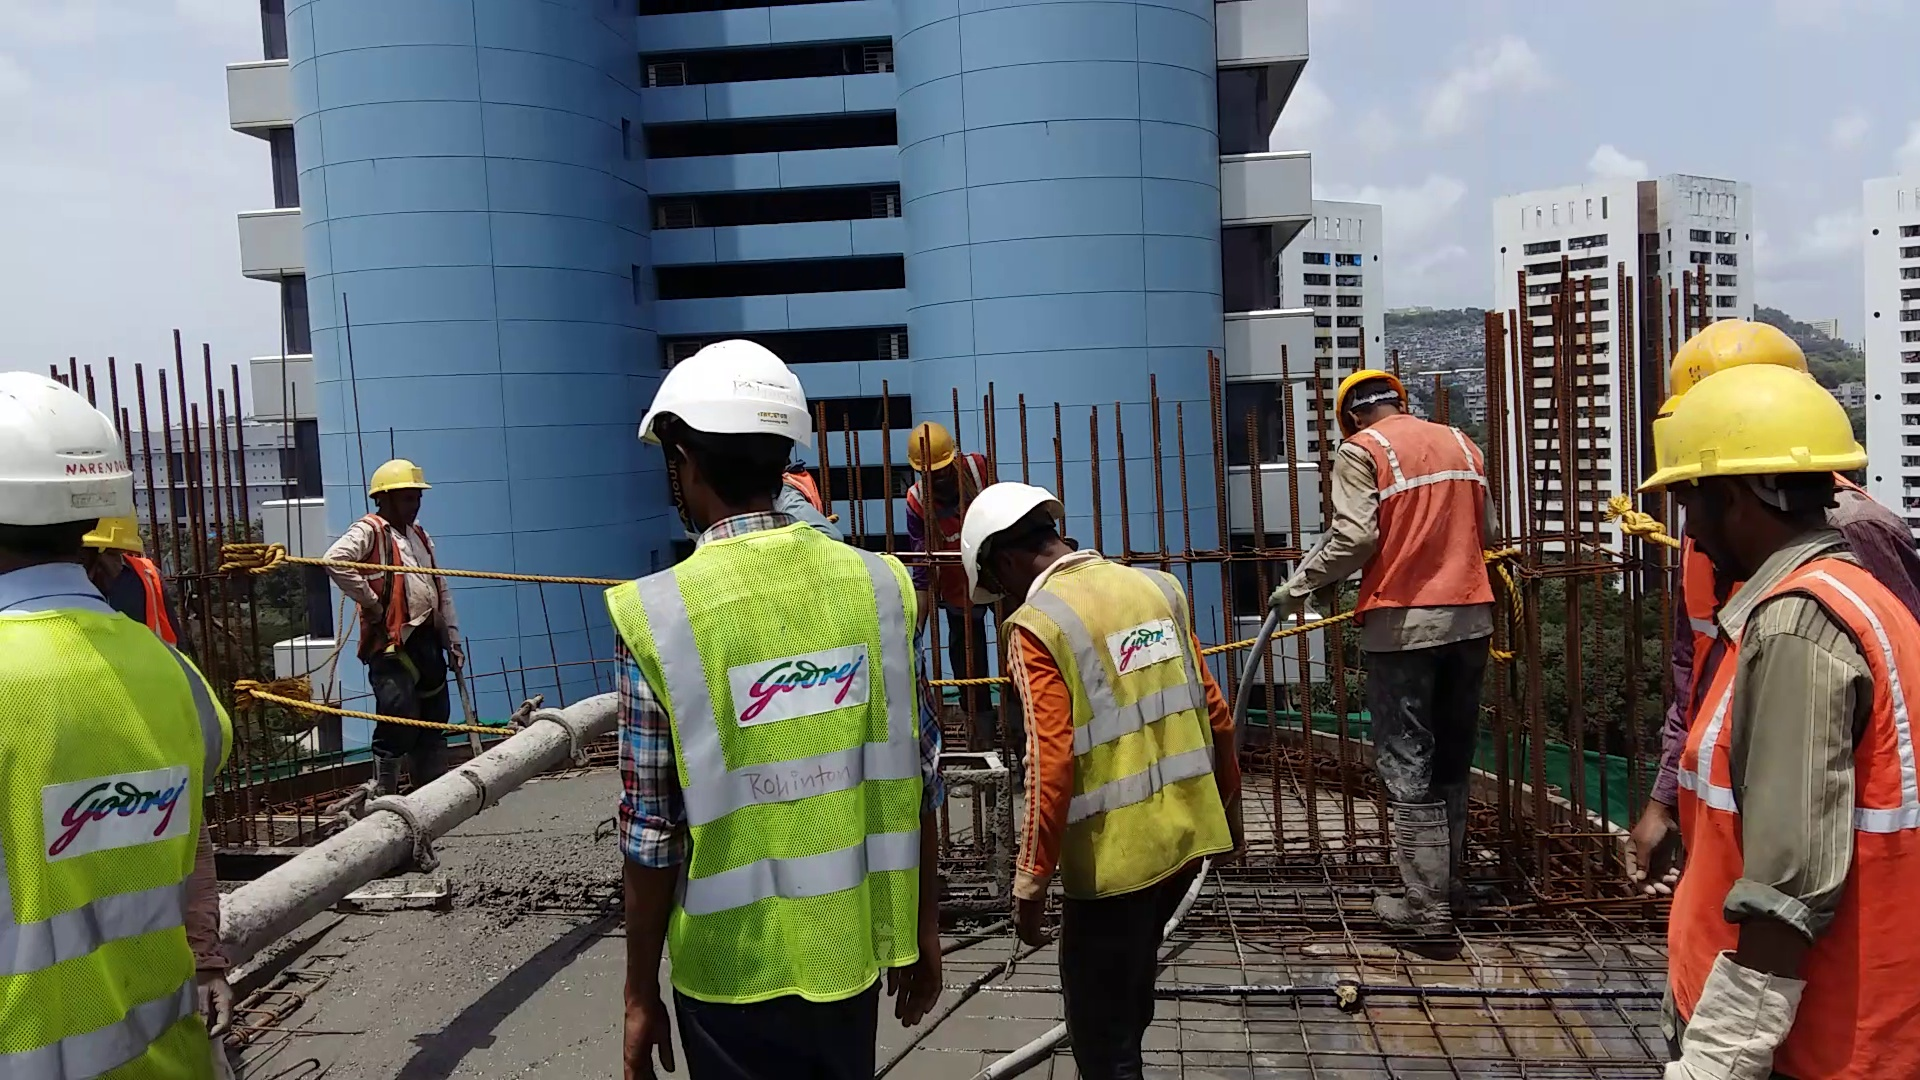SAFE: (616, 340, 919, 1007), (1642, 372, 1920, 1047), (1, 365, 214, 1079), (957, 483, 1205, 899), (1331, 368, 1502, 622), (344, 458, 444, 649)
